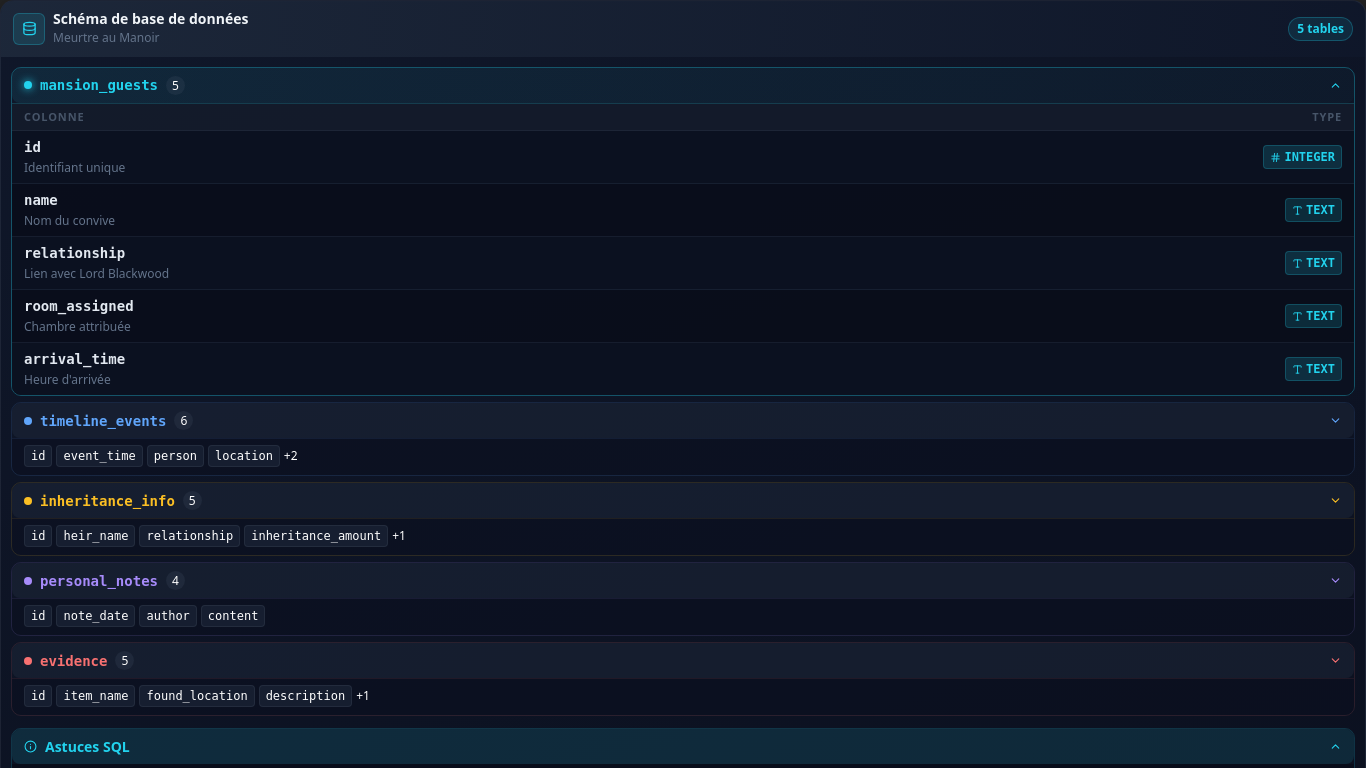
DatabaseSchema › shows SQL tips content after toggling back on
Click the button "Astuces SQL". click: (87, 747)
box: [12,729,1354,764]
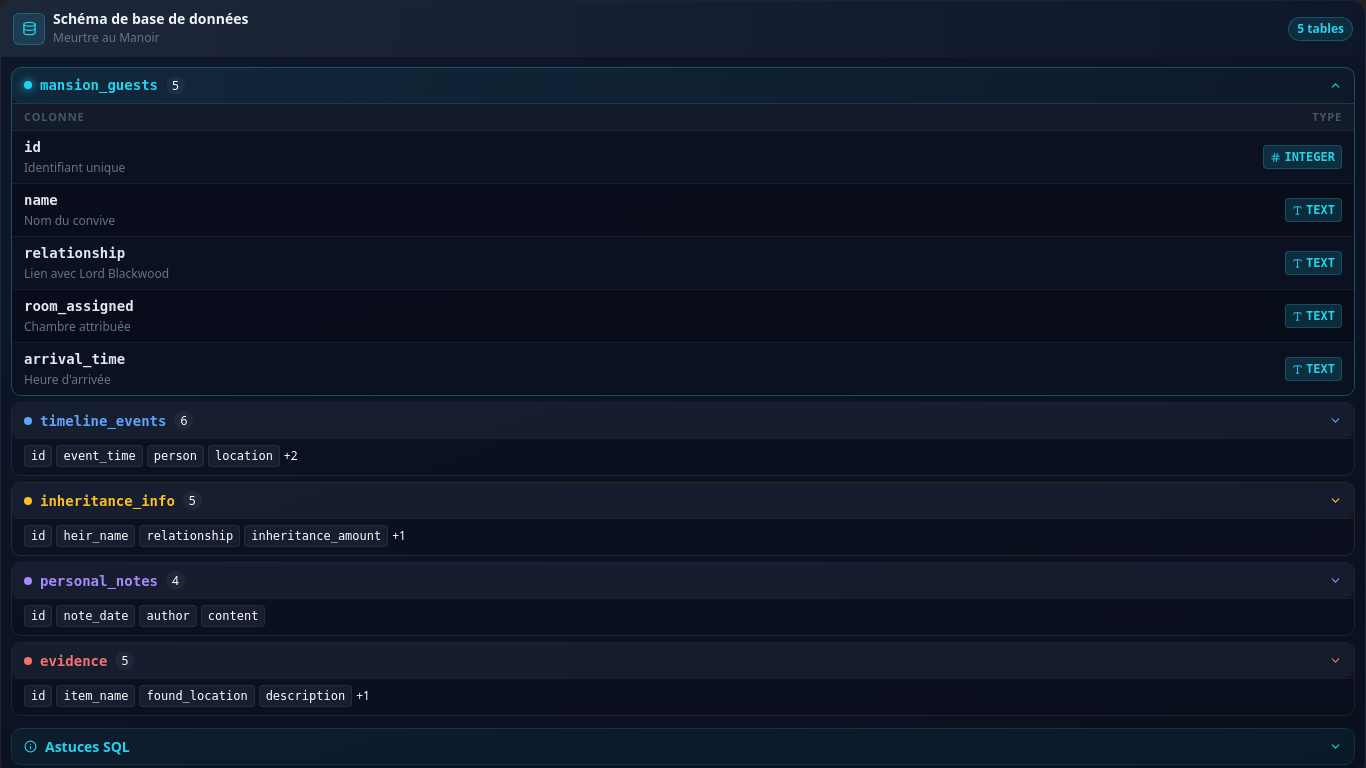
Click the button "Astuces SQL". click: (87, 747)
box: [12,729,1354,764]
(page scrolled)
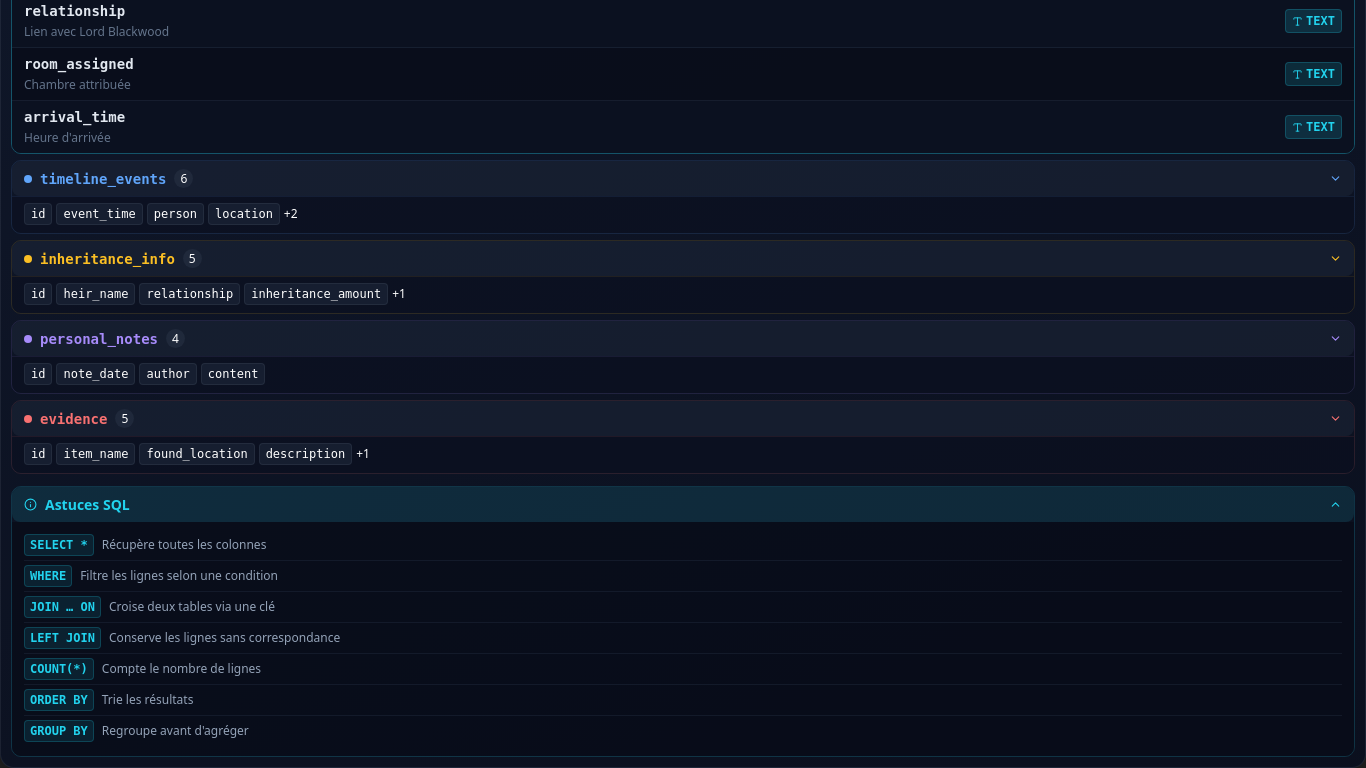
Result: the text "SELECT *" is shown at [24,534,94,556]
Result: the text "WHERE" is shown at [24,565,72,587]
Result: the text "ORDER BY" is shown at [24,689,94,711]
